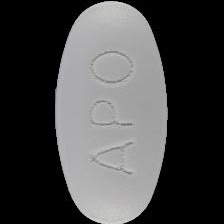58118-1249: (0, 0, 224, 224)
